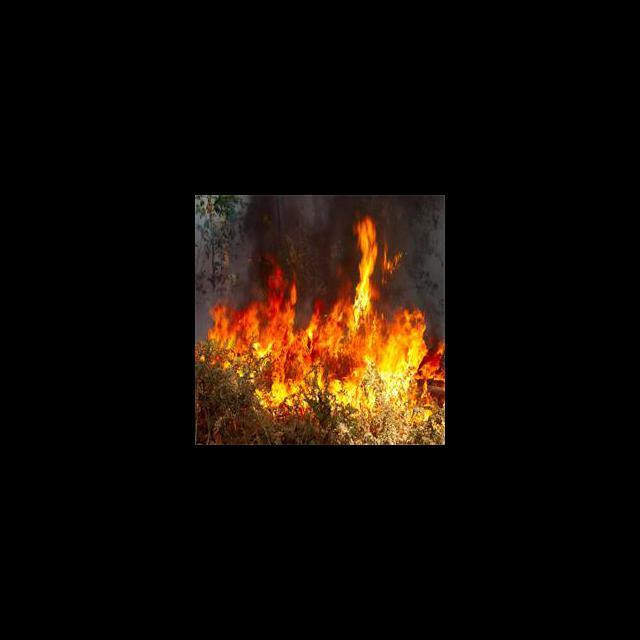Fire: (202, 216, 438, 424)
